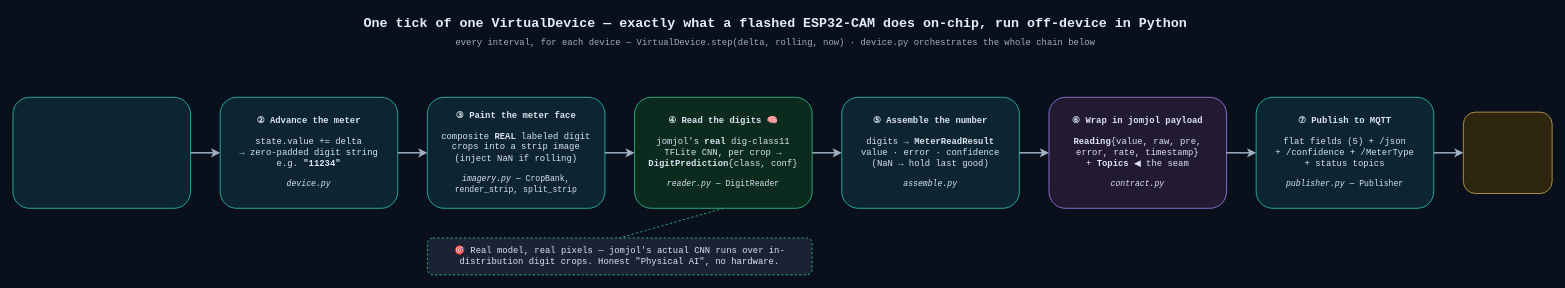
Some shapes in this 1565 by 288 pixel diagram are drawn without their labels. The shapes that lost their labels are listed below. From the top down, each one's box as (x1, y1, x2, y2) in pixels, then its label:
(12, 97, 191, 208): ① Usage tick pick this interval's change: Tick {delta, rolling} scenarios.py
(1463, 111, 1552, 194): 📨 MQTT broker mosquitto
